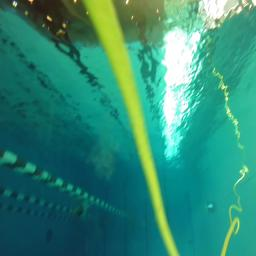Full: (206, 202, 216, 213), (188, 240, 194, 244)
